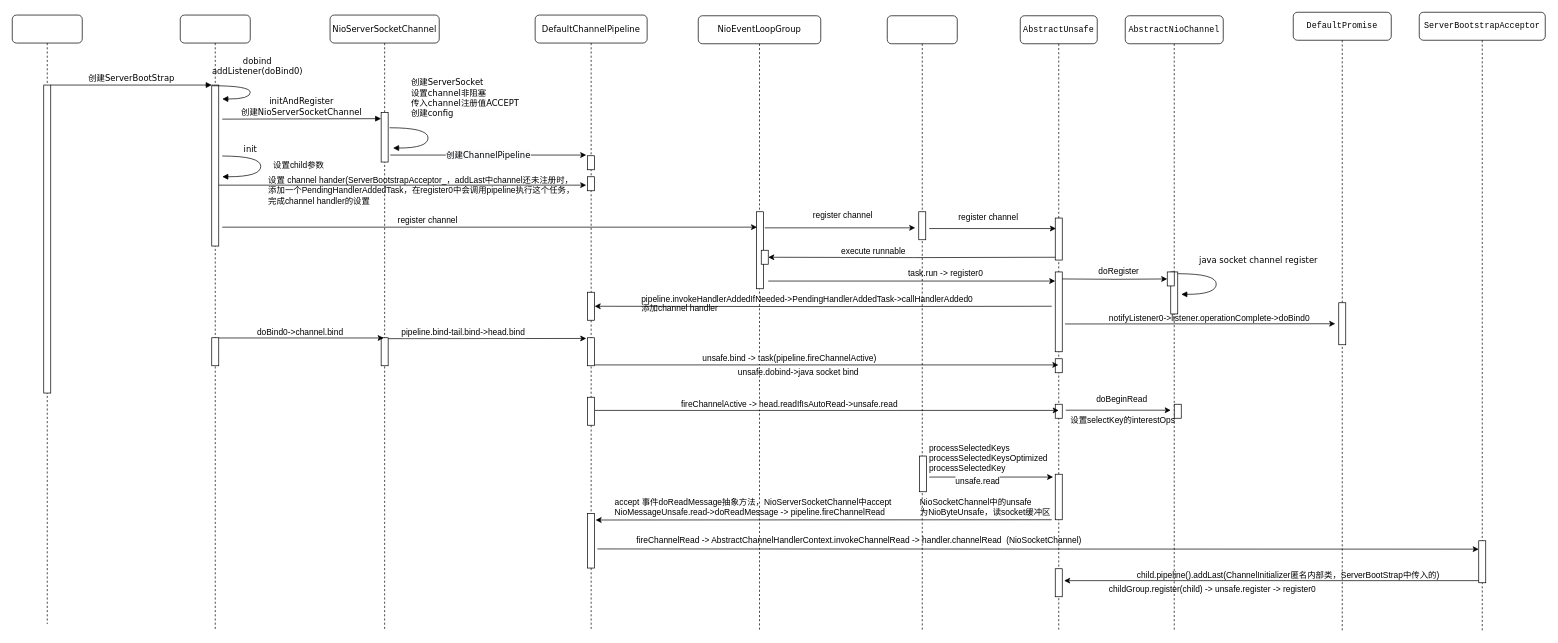
Image size: 1558x643. Some labels were removed from this diagram. The box of each missing label's shape, as (x1, y1, x2, y2) in pixels:
main: (12, 14, 82, 624)
NioEventLoop: (887, 15, 957, 631)
ServerBootStrap: (180, 14, 250, 631)
